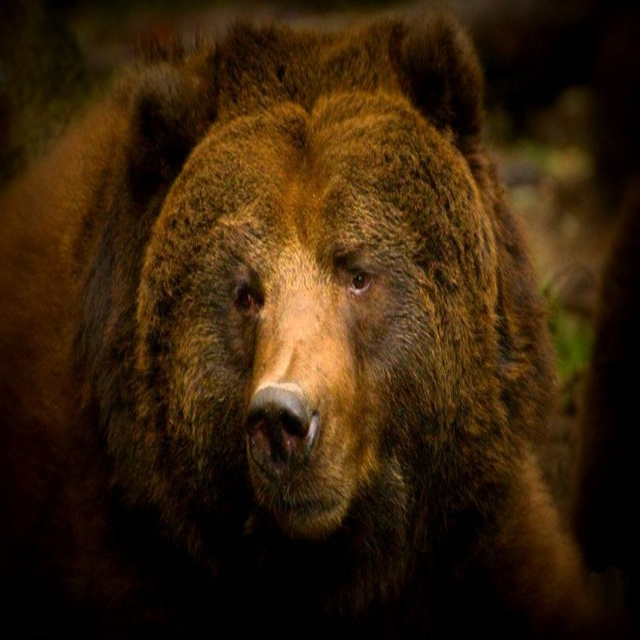Brown bear: (0, 0, 599, 632)
